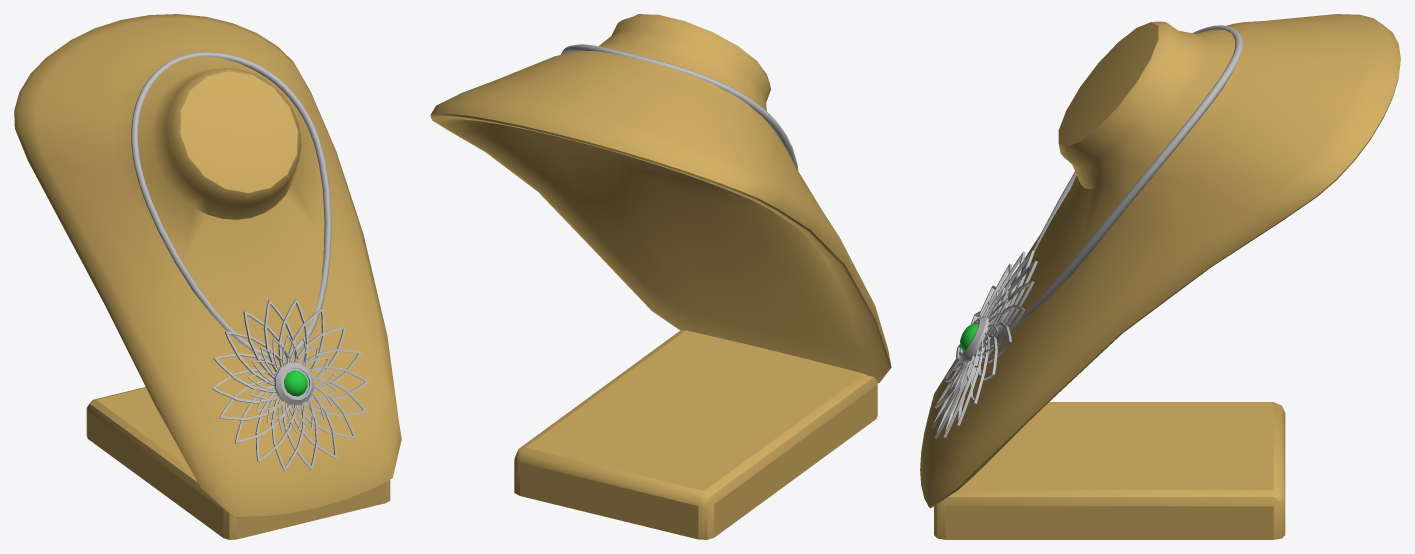
The model's file is Necklace_13.fbx.
The picture shows the model from 3 angles, left to right: view 1: azimuth 30°, elevation 25°; view 2: azimuth 150°, elevation 25°; view 3: azimuth 270°, elevation 25°; orthographic projection. The views are drawn at different scales.
Parts seen in each view (by area): view 1: SM_Stand_Necklace_17, SM_Cullon_1, SM_Necklace_14; view 2: SM_Stand_Necklace_17, SM_Necklace_14; view 3: SM_Stand_Necklace_17, SM_Cullon_1, SM_Necklace_14.
Boxes of the visible parts, bbox=[...] form: SM_Stand_Necklace_17: bbox=[14, 14, 401, 539]; SM_Cullon_1: bbox=[211, 299, 368, 471]; SM_Necklace_14: bbox=[131, 52, 331, 358]; SM_Stand_Necklace_17: bbox=[430, 14, 891, 539]; SM_Necklace_14: bbox=[560, 44, 798, 170]; SM_Stand_Necklace_17: bbox=[920, 14, 1400, 539]; SM_Cullon_1: bbox=[931, 250, 1037, 438]; SM_Necklace_14: bbox=[1006, 25, 1242, 327].
Size of the model in its own units: 22.51 by 29.29 by 27.78.
